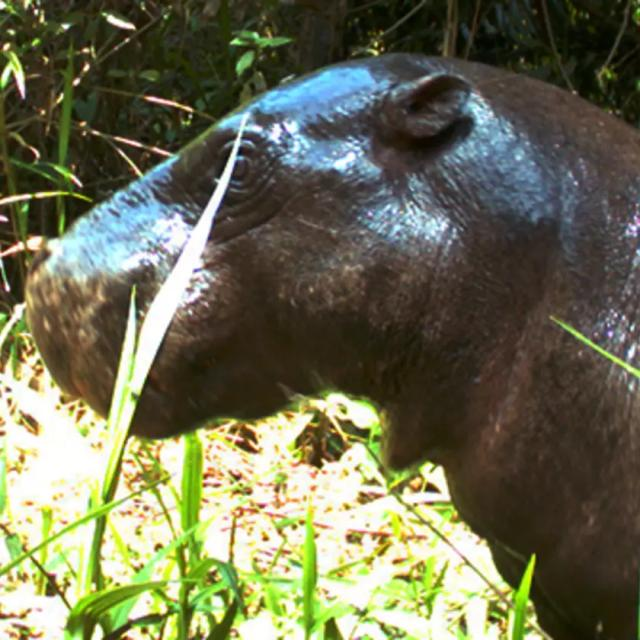Hippopotamus: (24, 58, 639, 640)
